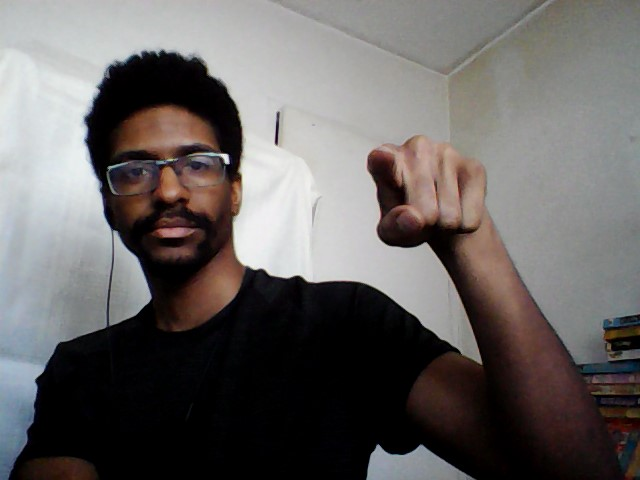z: (362, 131, 492, 251)
